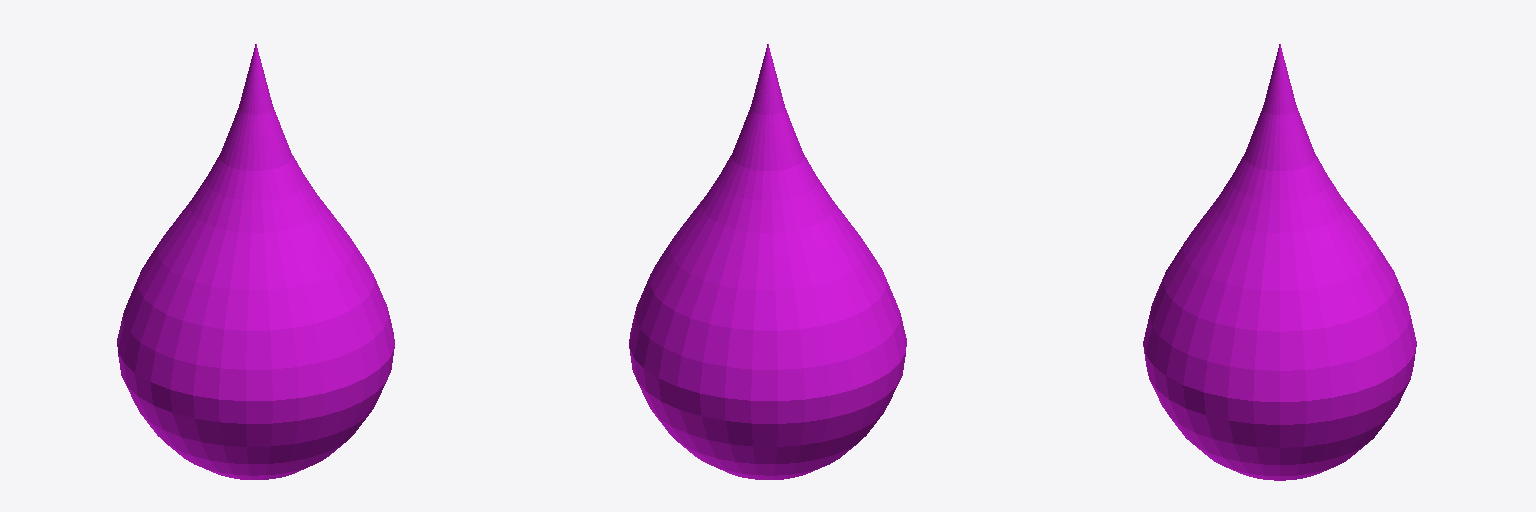
Rendered from droplet.obj.
3 views of the same model, side by side, from view 1: azimuth 30°, elevation 25°; view 2: azimuth 150°, elevation 25°; view 3: azimuth 270°, elevation 25° (orthographic).
Parts seen in each view (by area): view 1: Sphere; view 2: Sphere; view 3: Sphere.
Boxes of the visible parts, x1,y1,x2,y2 form: Sphere: [117, 44, 394, 479]; Sphere: [629, 44, 906, 479]; Sphere: [1143, 44, 1416, 480].
Bounding box in the file's own units: 1.54 × 2.58 × 1.5.